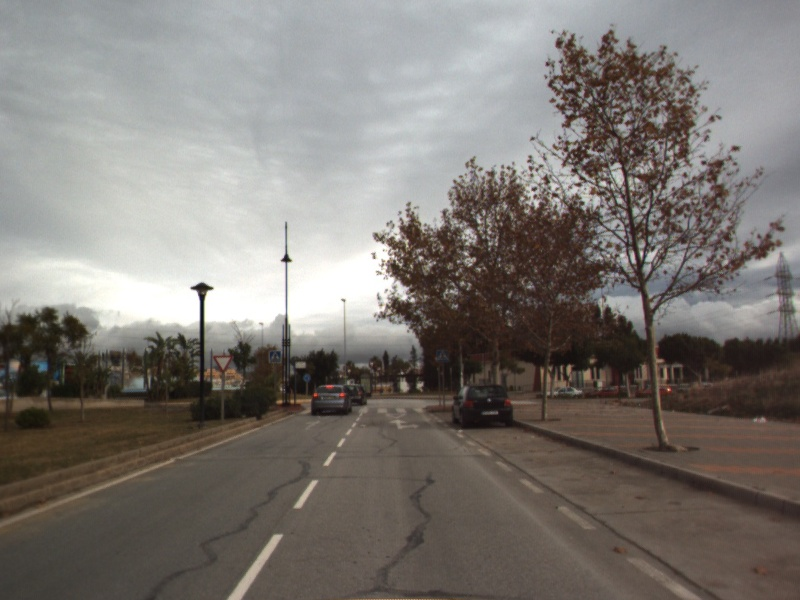STRAIGHT: (302, 419, 324, 432)
STRAIGHT_RIGHT: (387, 417, 422, 431)
